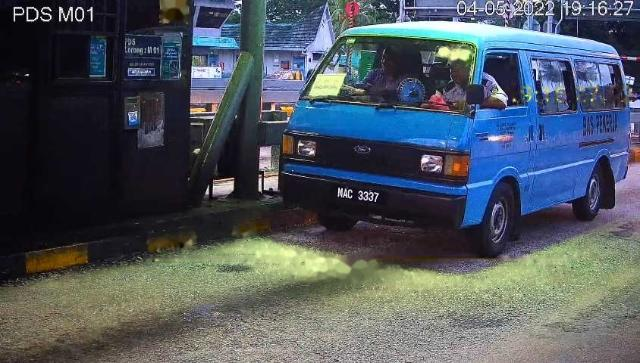License_Plate: (332, 184, 390, 208)
van: (281, 25, 632, 260)
